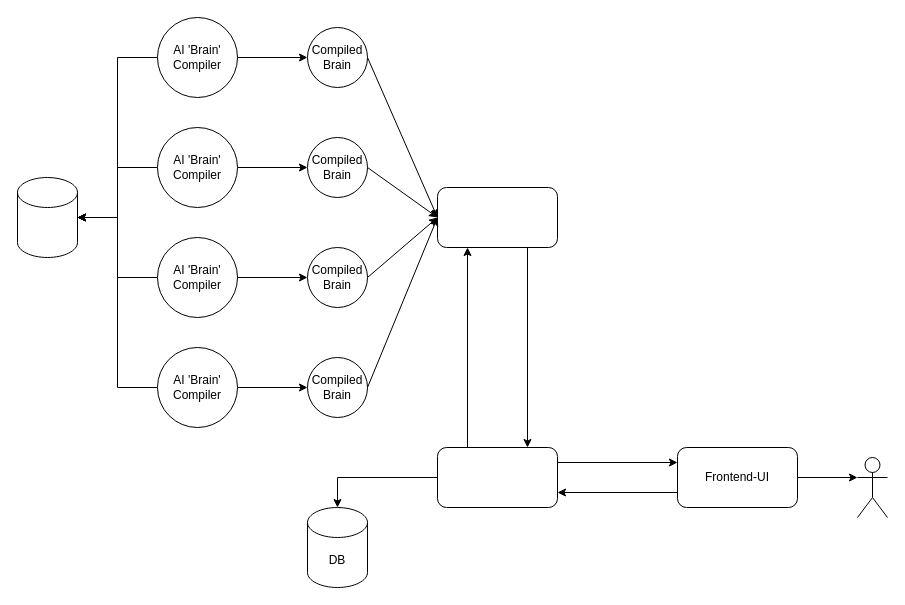
This 905x605 diagram has some shape labels left out. The shapes that lost their labels are listed below. From the top down, each one's box as (x1, y1, x2, y2) in pixels, then its label:
(16, 176, 78, 258): Dataset
(436, 186, 558, 248): Backend-Evaluator
(436, 446, 558, 508): Backend-Information
(856, 456, 888, 518): User
